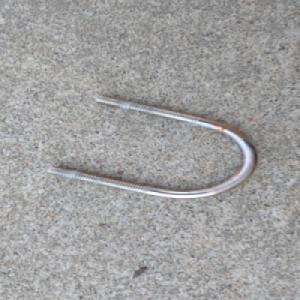ClampPart: (44, 92, 262, 201)
